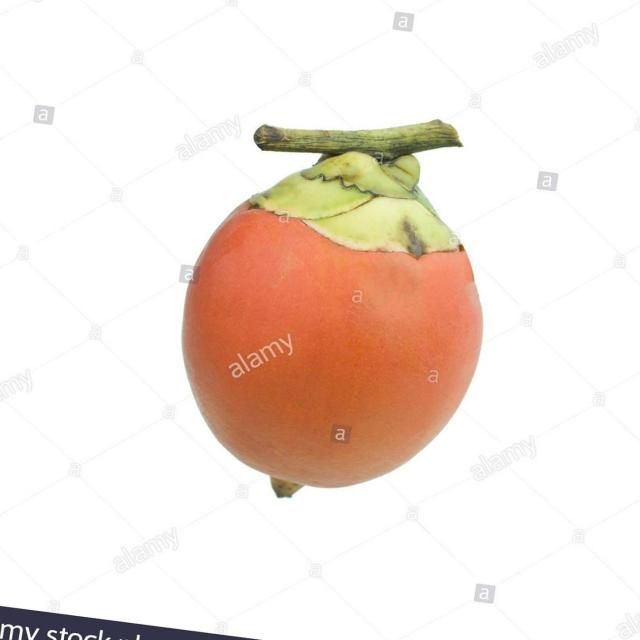good: (181, 121, 485, 491)
